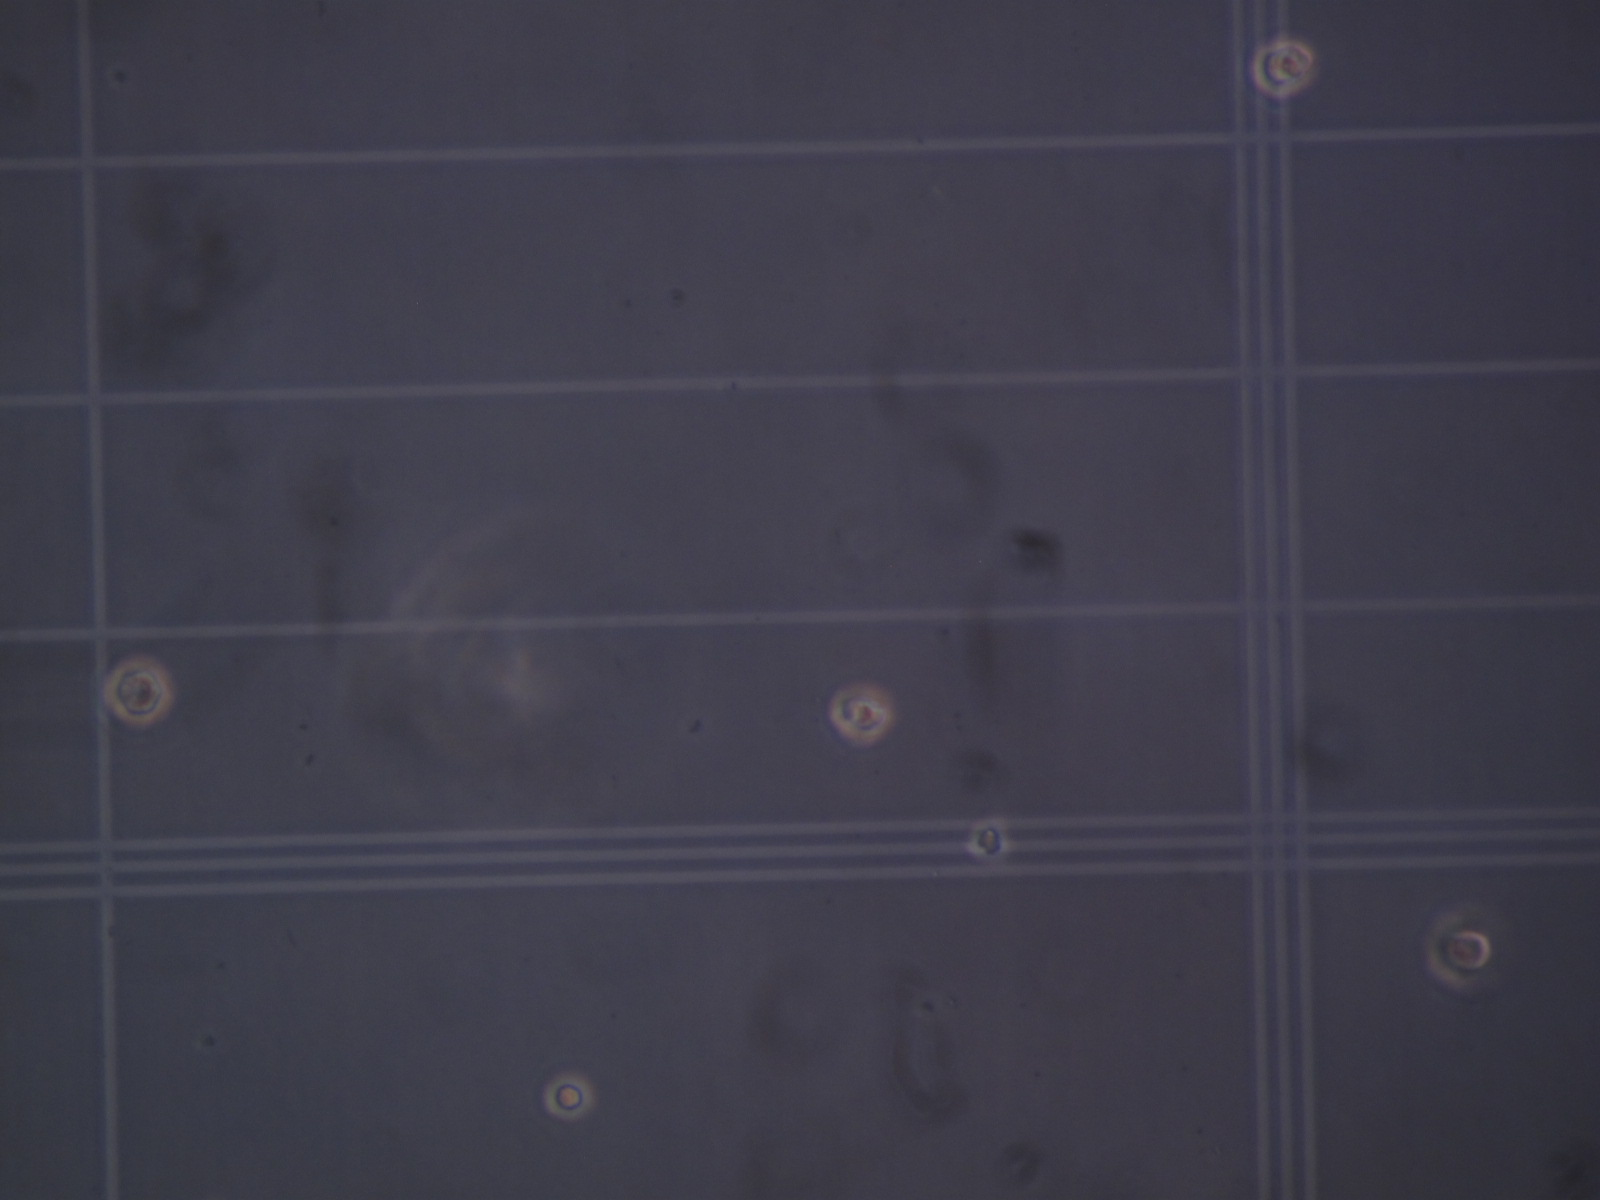hemo: (1422, 911, 1492, 989), (105, 655, 173, 726), (1252, 38, 1315, 98), (829, 683, 893, 742), (544, 1074, 593, 1121)
